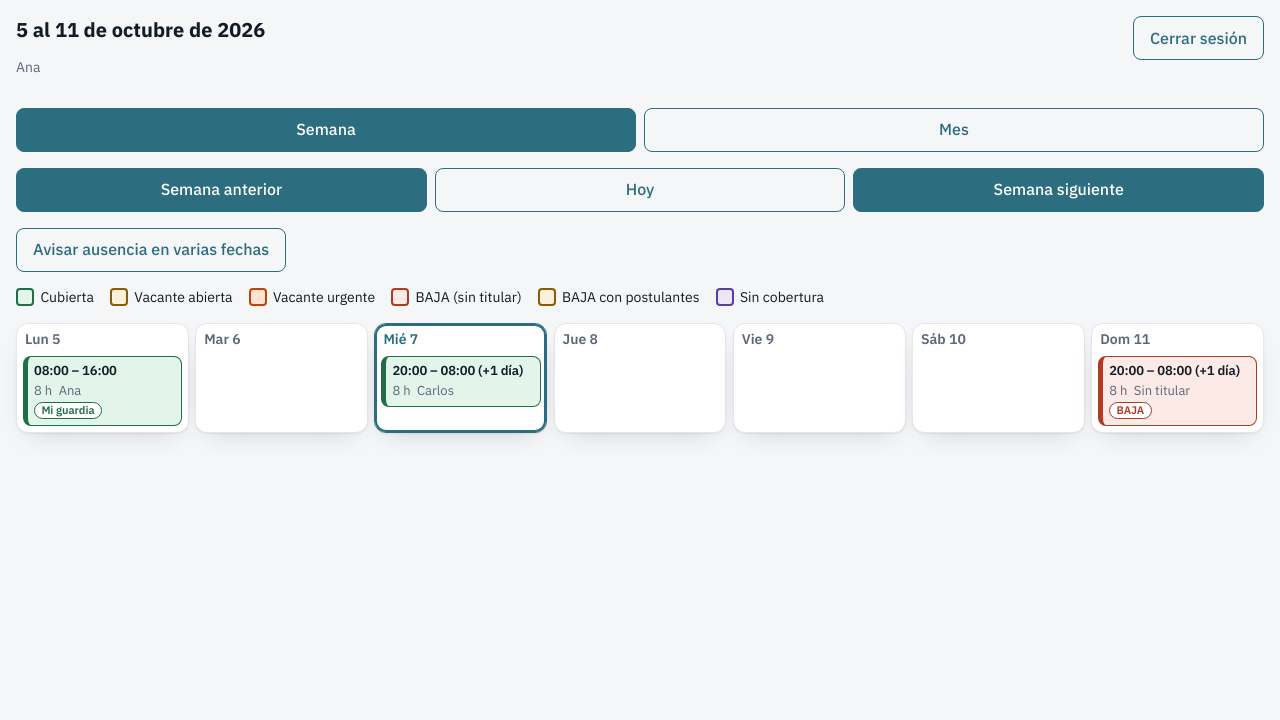
Scenario: Calendario del coordinador: panel de cobertura › vista mensual › tocar una guardia abre el mismo detalle
Check: the heading "5 al 11 de octubre de 2026" is shown, box left=16, top=16, right=265, bottom=44
Click the button "Mes". click: point(954, 130)
box: left=644, top=108, right=1264, bottom=152
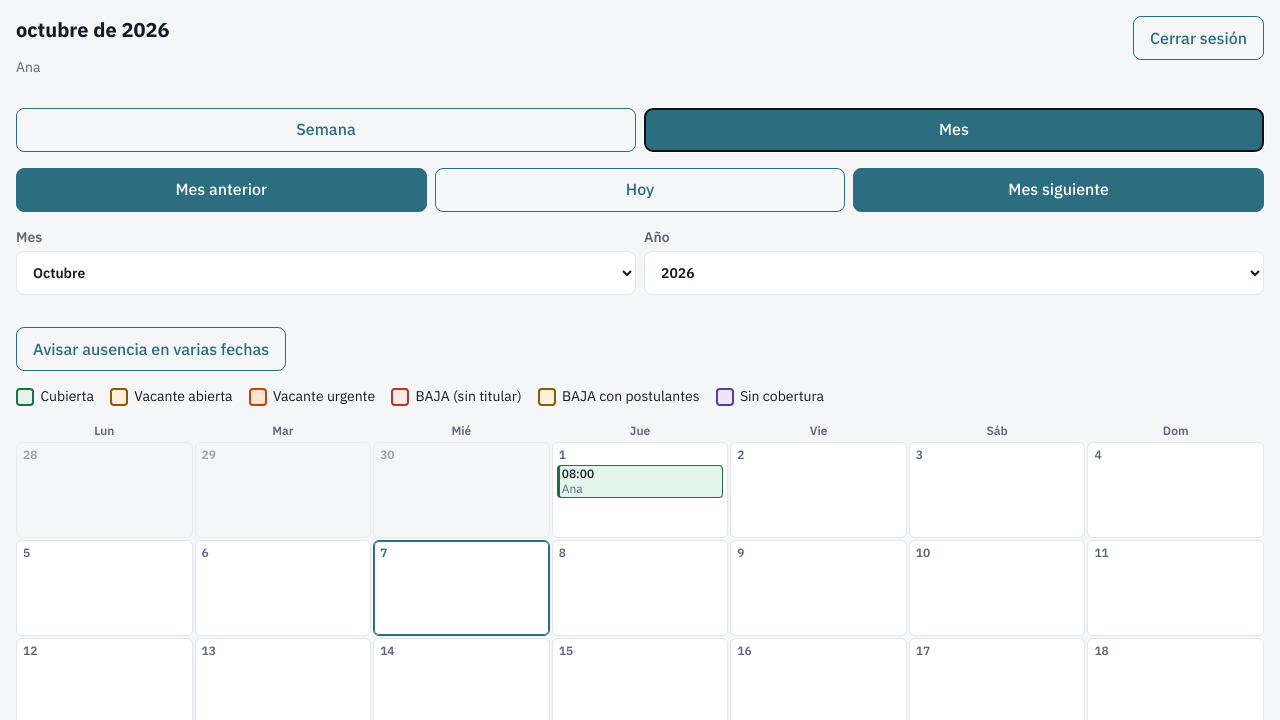
Click the button with test id "turno-mes". click: point(640, 482)
box: left=557, top=465, right=723, bottom=498
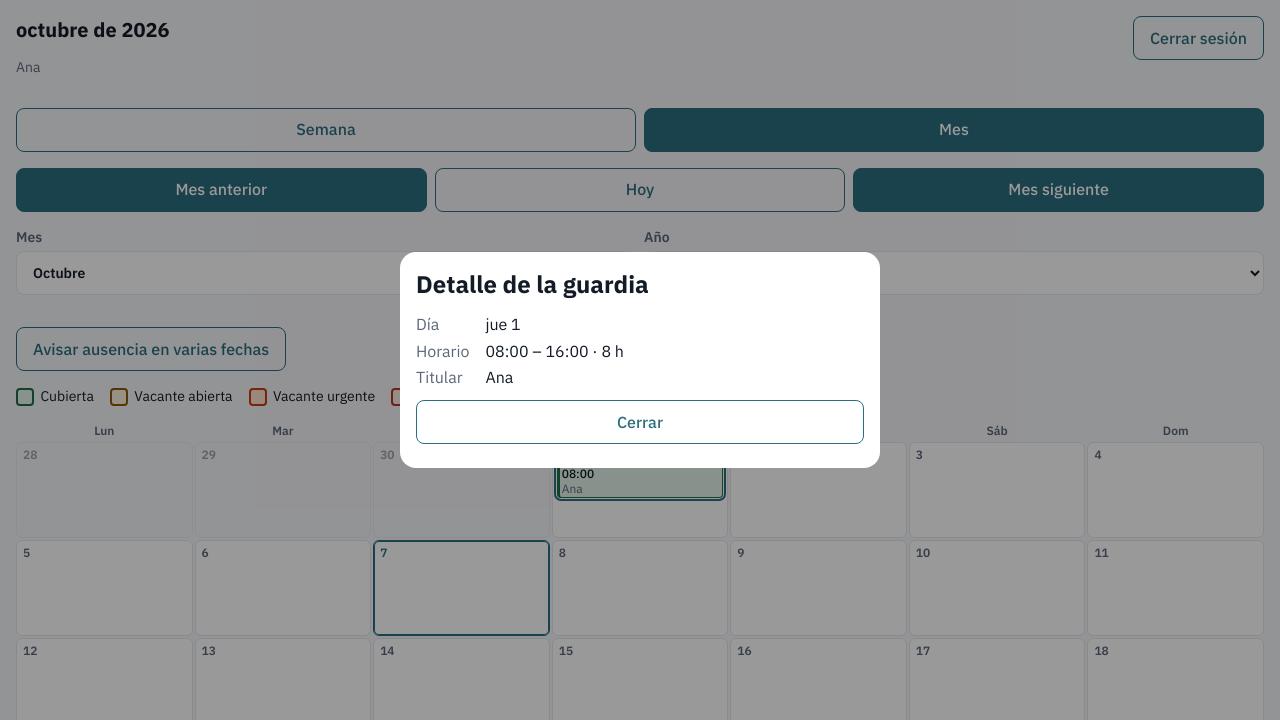
Check: the dialog "Detalle de la guardia" is shown, box left=400, top=252, right=880, bottom=468
